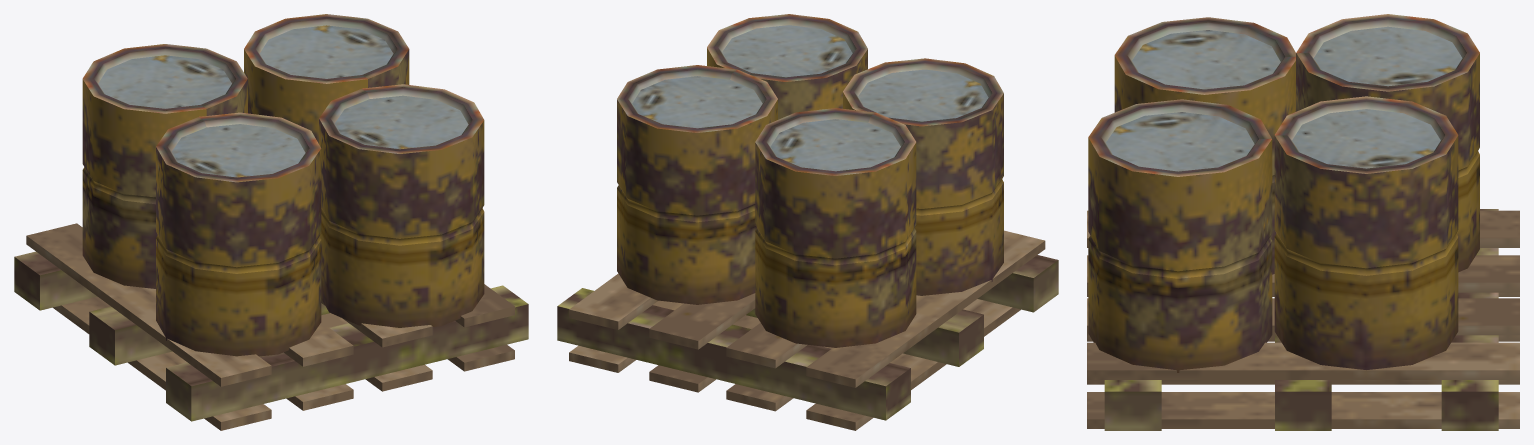
The model's file is SM_PALLETBarril_01.fbx.
3 views of the same model, side by side, from view 1: azimuth 30°, elevation 25°; view 2: azimuth 150°, elevation 25°; view 3: azimuth 270°, elevation 25° (orthographic). The views are drawn at different scales.
Parts seen in each view (by area): view 1: SM_PALLETBarril_01; view 2: SM_PALLETBarril_01; view 3: SM_PALLETBarril_01.
Part boxes in pixels (box(x1,y1,x2,y2)): SM_PALLETBarril_01: box(14, 14, 528, 430); SM_PALLETBarril_01: box(557, 14, 1058, 430); SM_PALLETBarril_01: box(1087, 14, 1519, 430).
Size of the model in its own units: 2 by 1.32 by 2.
